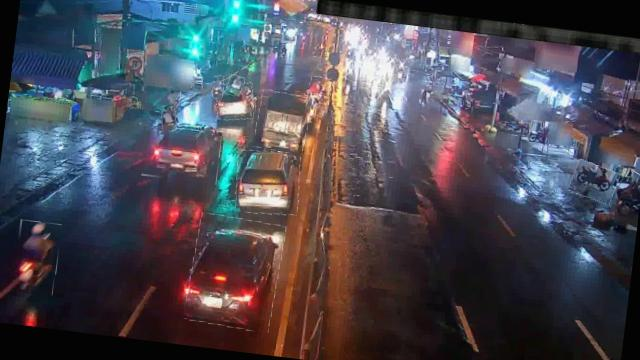Bike: (12, 220, 61, 294), (569, 160, 619, 203), (307, 74, 332, 96), (160, 104, 178, 132), (499, 120, 529, 136), (226, 74, 244, 96), (166, 87, 180, 108), (211, 76, 224, 98)
Car: (183, 212, 284, 332), (232, 146, 303, 217), (141, 122, 222, 184), (212, 80, 255, 122)
Truck: (252, 90, 312, 154)
